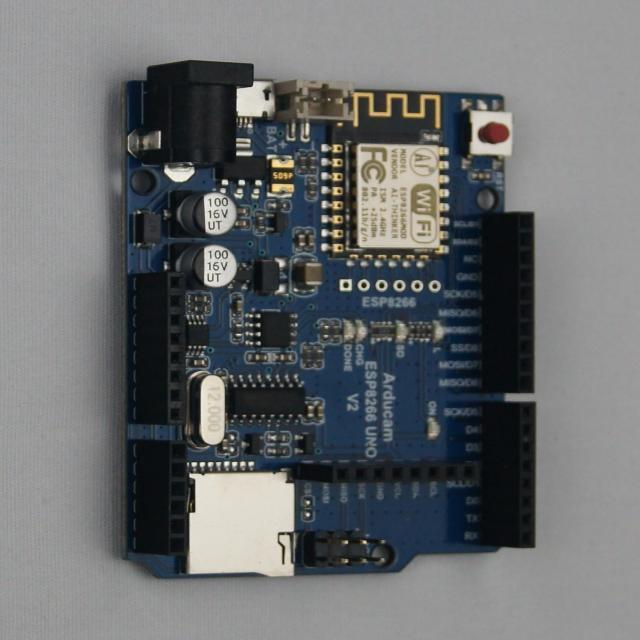Arduino Uno Camera Shield: (125, 63, 534, 579)
